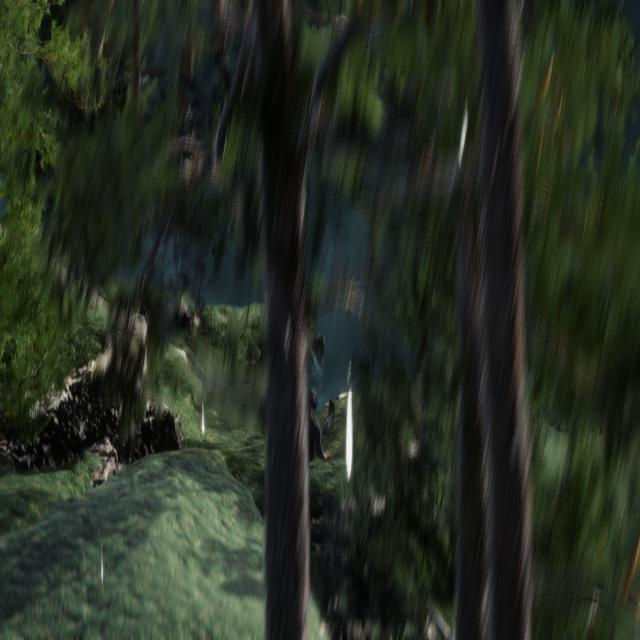Human: (303, 319, 341, 467)
